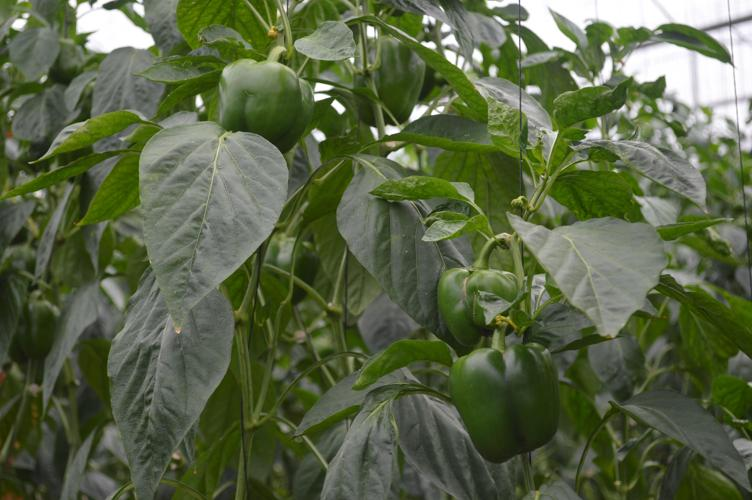BellPepper: (441, 344, 559, 469), (208, 56, 319, 160), (431, 260, 527, 346), (348, 32, 421, 135)
